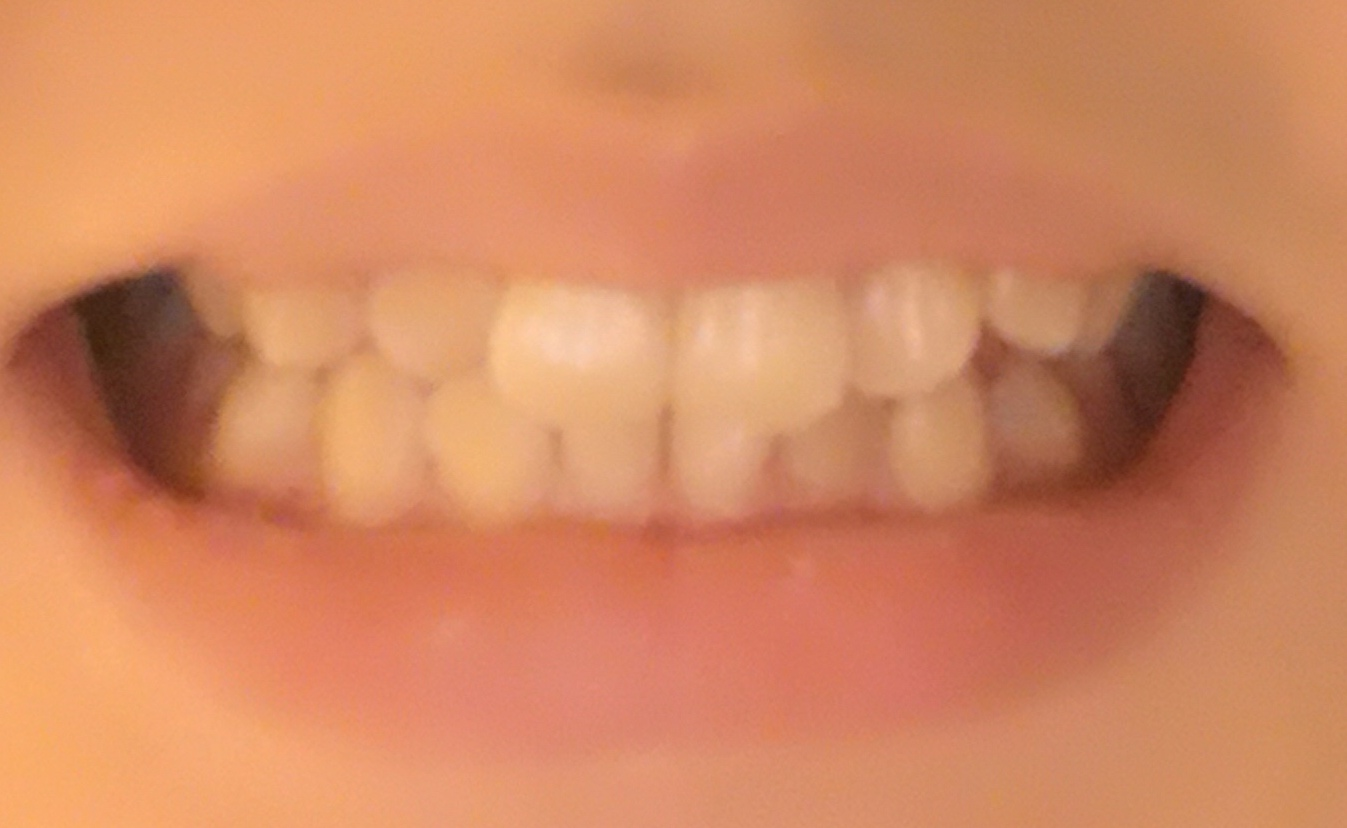teeth: (678, 277, 852, 432), (496, 280, 671, 422), (422, 372, 557, 522), (325, 361, 427, 526), (859, 258, 979, 393), (367, 262, 497, 372), (889, 368, 989, 504), (560, 398, 664, 498), (672, 407, 771, 502)
